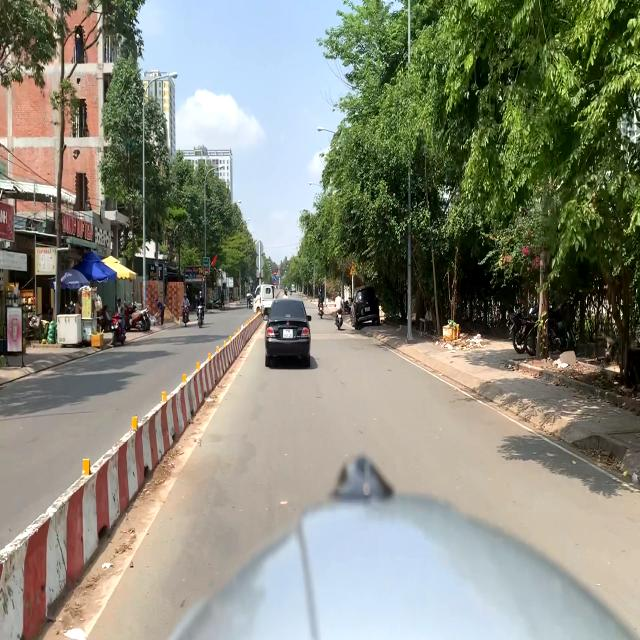P.102: (273, 270, 277, 276)
R.302a: (273, 276, 277, 281)
